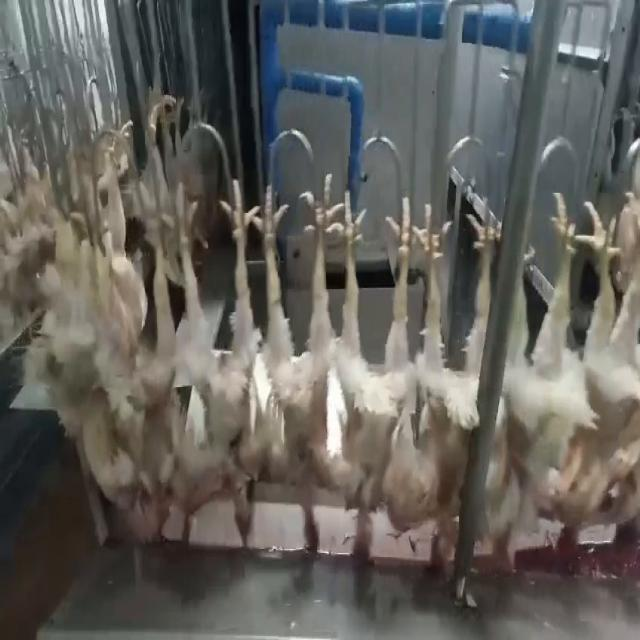chicken: (390, 189, 498, 548), (328, 184, 422, 565), (163, 168, 255, 554), (252, 168, 336, 560), (492, 192, 576, 578), (577, 174, 639, 547), (100, 198, 162, 543)
